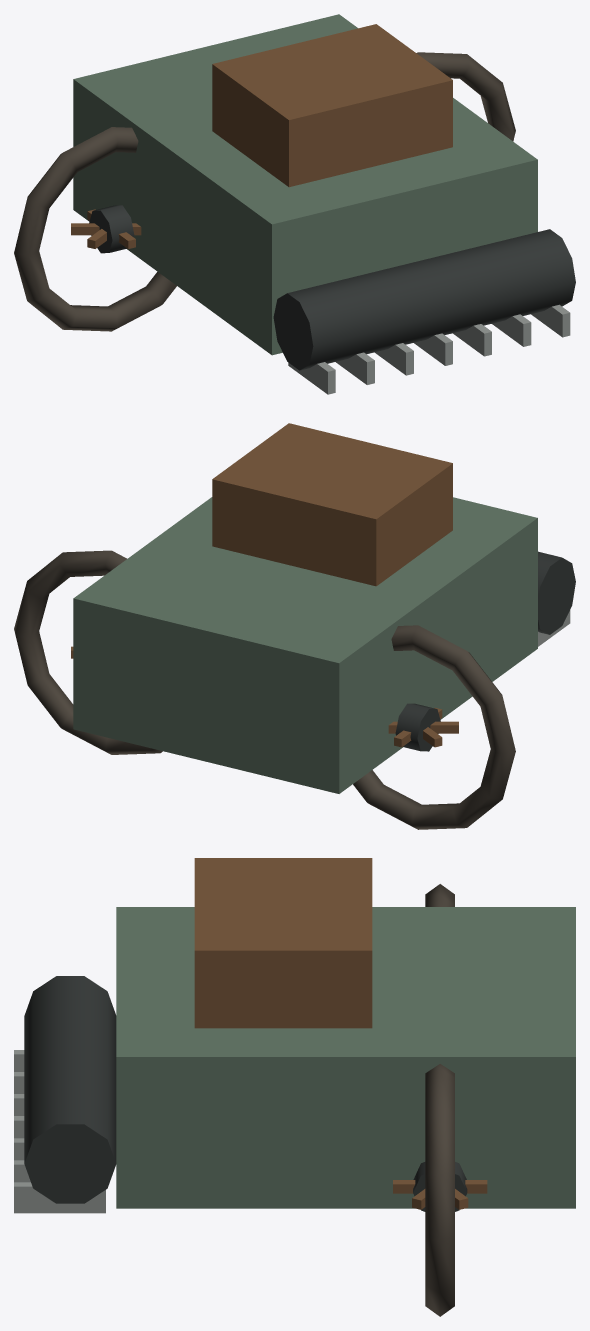
Rendered from Harvester.glb.
3 renders of one model, top to bottom at view 1: azimuth 30°, elevation 25°; view 2: azimuth 150°, elevation 25°; view 3: azimuth 270°, elevation 25°, orthographic. The views are drawn at different scales.
Parts seen in each view (by area): view 1: harvester-static-harvester-paint-mat, harvester-static-harvester-timber-mat, harvester-static-harvester-iron-mat, harvester-static-harvester-wheel-mat, harvester-static-harvester-steel-mat; view 2: harvester-static-harvester-paint-mat, harvester-static-harvester-timber-mat, harvester-static-harvester-wheel-mat, harvester-static-harvester-iron-mat; view 3: harvester-static-harvester-paint-mat, harvester-static-harvester-timber-mat, harvester-static-harvester-iron-mat, harvester-static-harvester-wheel-mat, harvester-static-harvester-steel-mat.
Part boxes in pixels (<box>): harvester-static-harvester-paint-mat: <box>73,14,537,355</box>; harvester-static-harvester-timber-mat: <box>71,24,452,249</box>; harvester-static-harvester-iron-mat: <box>89,205,575,370</box>; harvester-static-harvester-wheel-mat: <box>14,52,515,331</box>; harvester-static-harvester-steel-mat: <box>288,304,570,394</box>; harvester-static-harvester-paint-mat: <box>73,497,537,793</box>; harvester-static-harvester-timber-mat: <box>71,423,458,747</box>; harvester-static-harvester-wheel-mat: <box>14,550,515,829</box>; harvester-static-harvester-iron-mat: <box>395,551,575,751</box>; harvester-static-harvester-paint-mat: <box>116,907,575,1208</box>; harvester-static-harvester-timber-mat: <box>194,858,487,1209</box>; harvester-static-harvester-iron-mat: <box>24,976,467,1211</box>; harvester-static-harvester-wheel-mat: <box>425,884,454,1316</box>; harvester-static-harvester-steel-mat: <box>14,1050,105,1213</box>.
Bounding box in the file's own units: 3.21 × 1.66 × 2.69.
